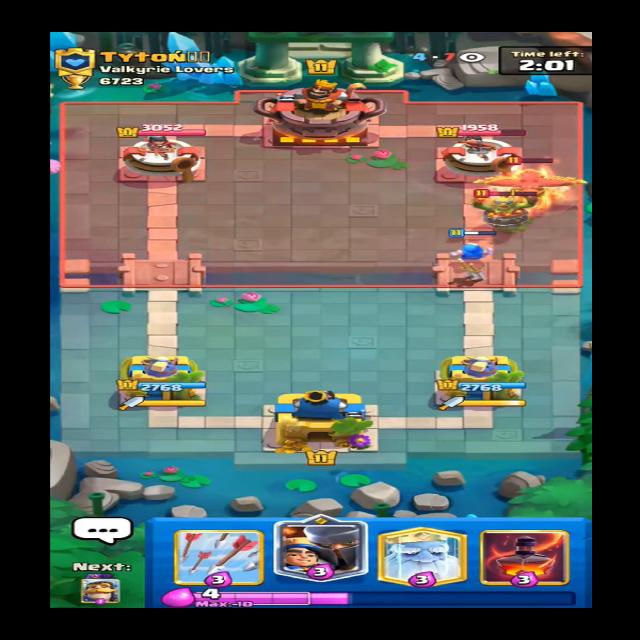Goblindemolisher: (467, 190, 541, 225)
Pheonix: (478, 157, 590, 197)
